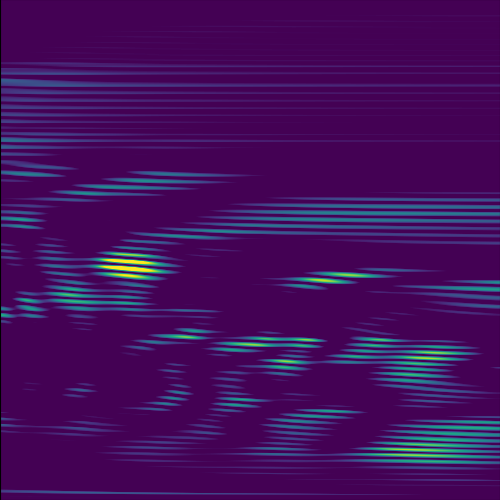semblance: (81, 251, 192, 280)
